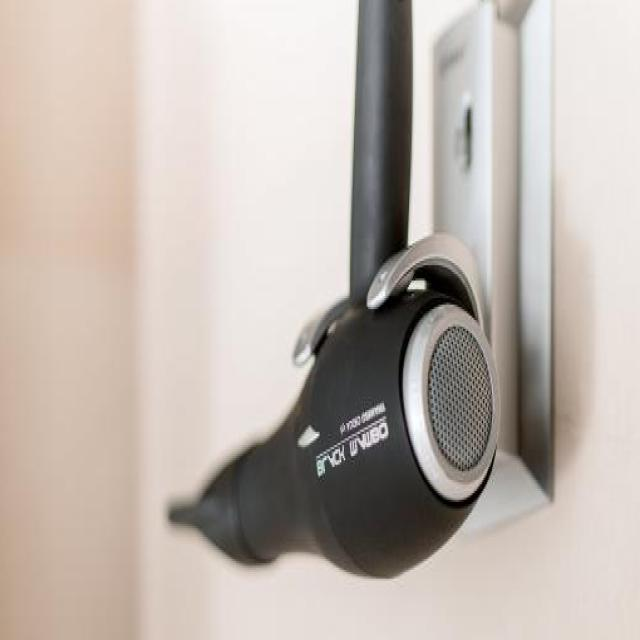dryer: (171, 0, 524, 621)
